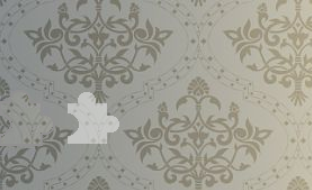target: (64, 87, 122, 148)
